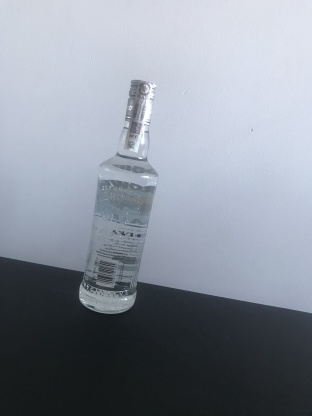nakretka: (123, 76, 158, 128)
